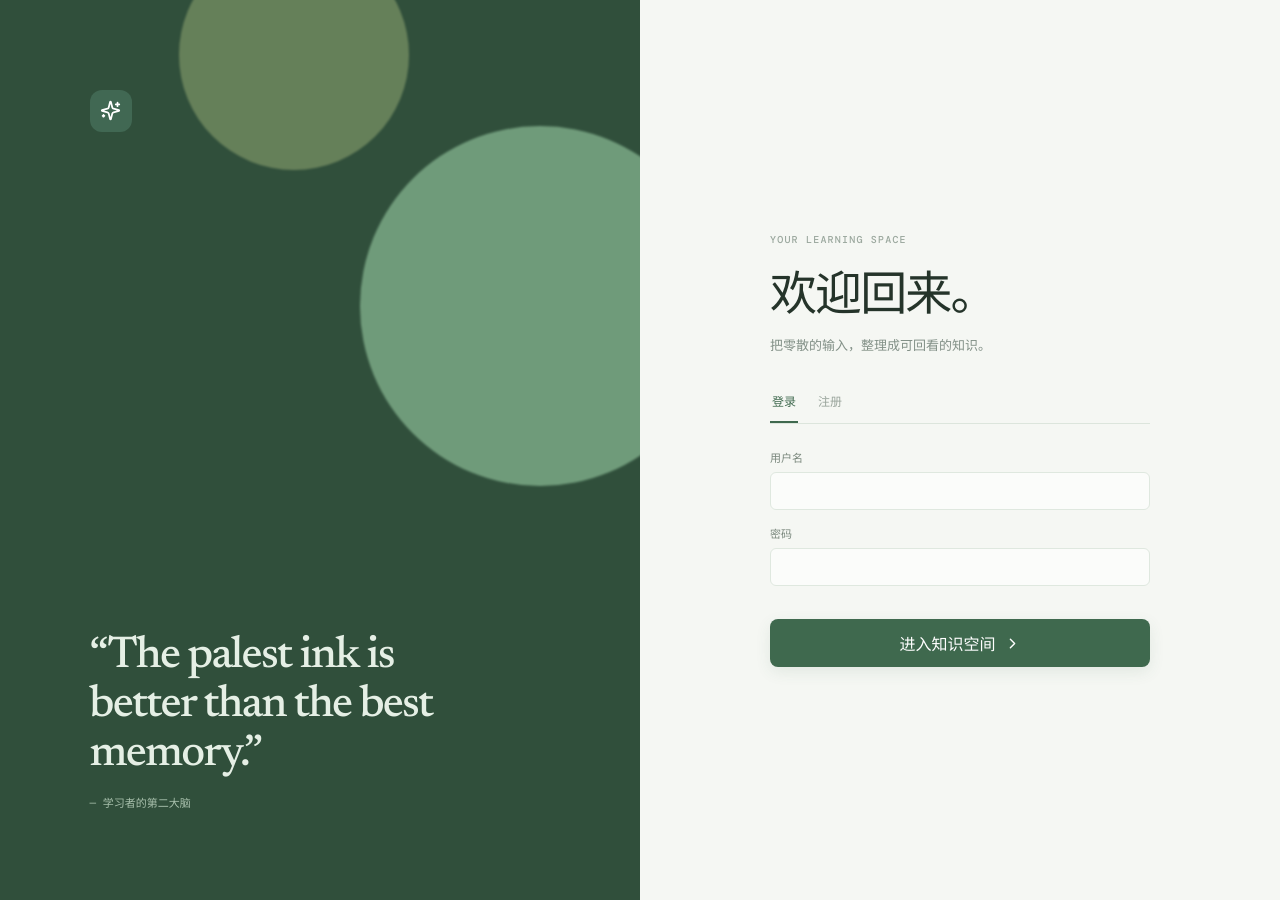
Scenario: registers a new learner and opens the knowledge space
Click the button "注册".
click(830, 408)  # box [816,392,844,423]
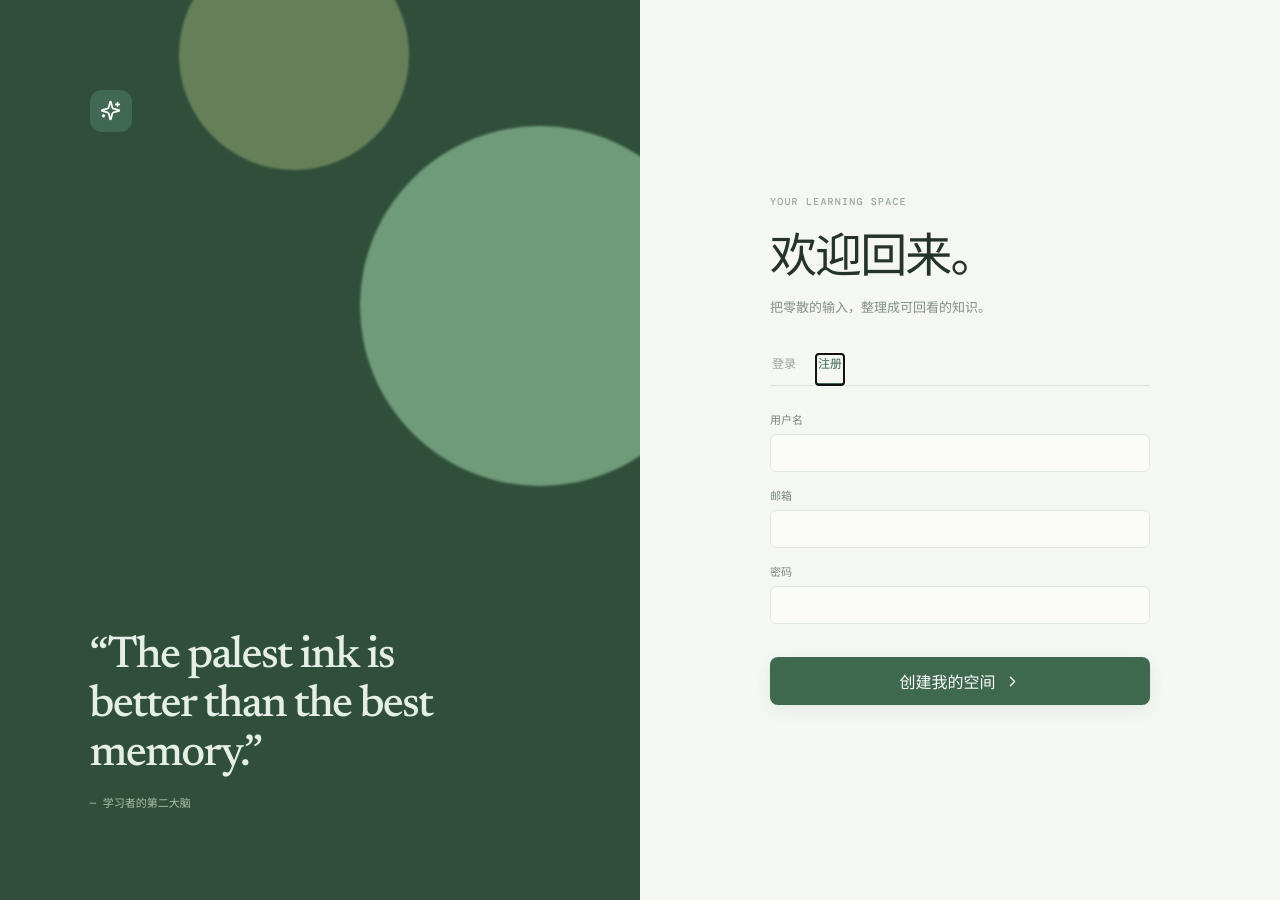
Type "new_learner" into the field labelled "用户名".
click(960, 453); type("new_learner")  # box [770,434,1150,472]
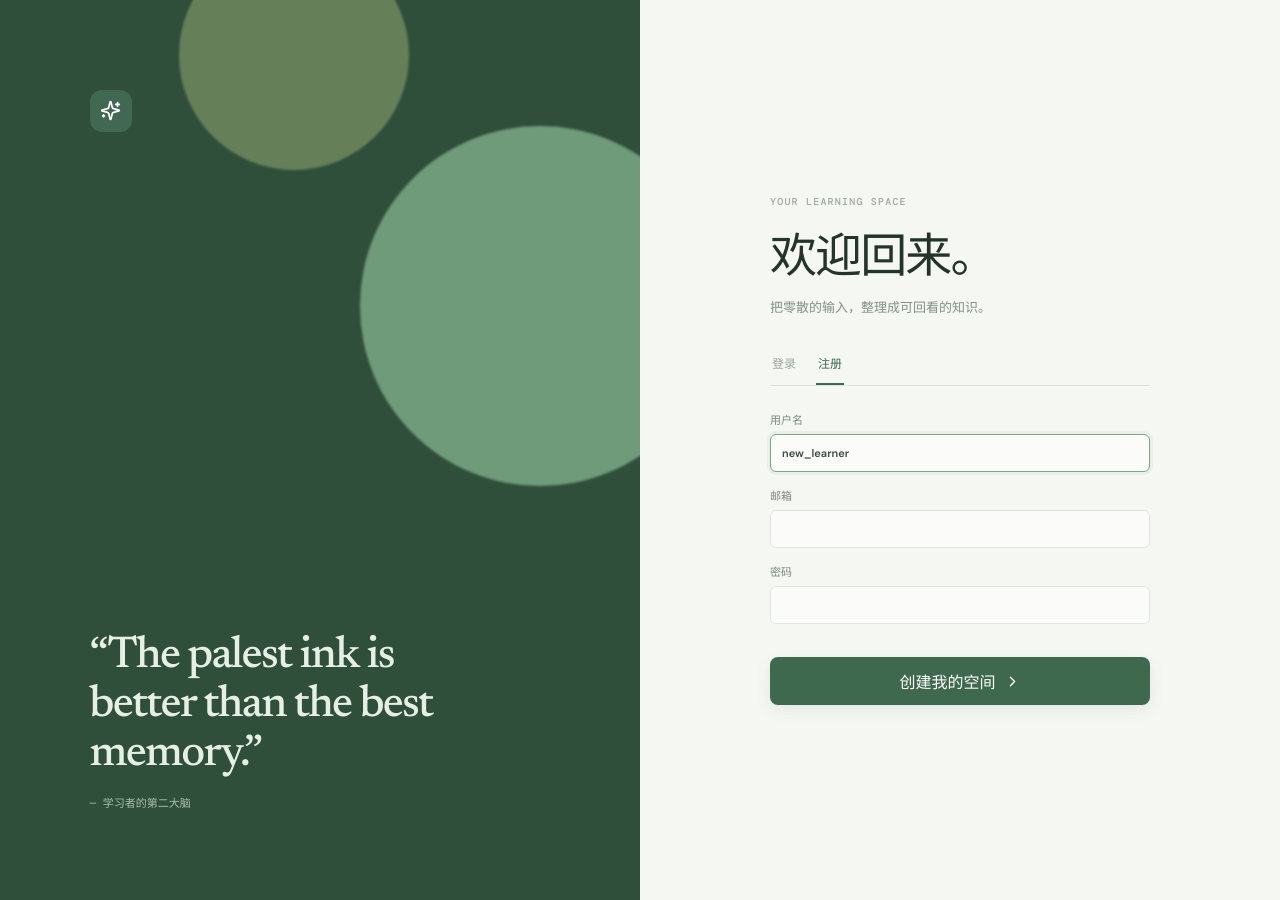
Type "new_learner@example.com" into the field labelled "邮箱".
click(960, 529); type("new_learner@example.com")  # box [770,510,1150,548]
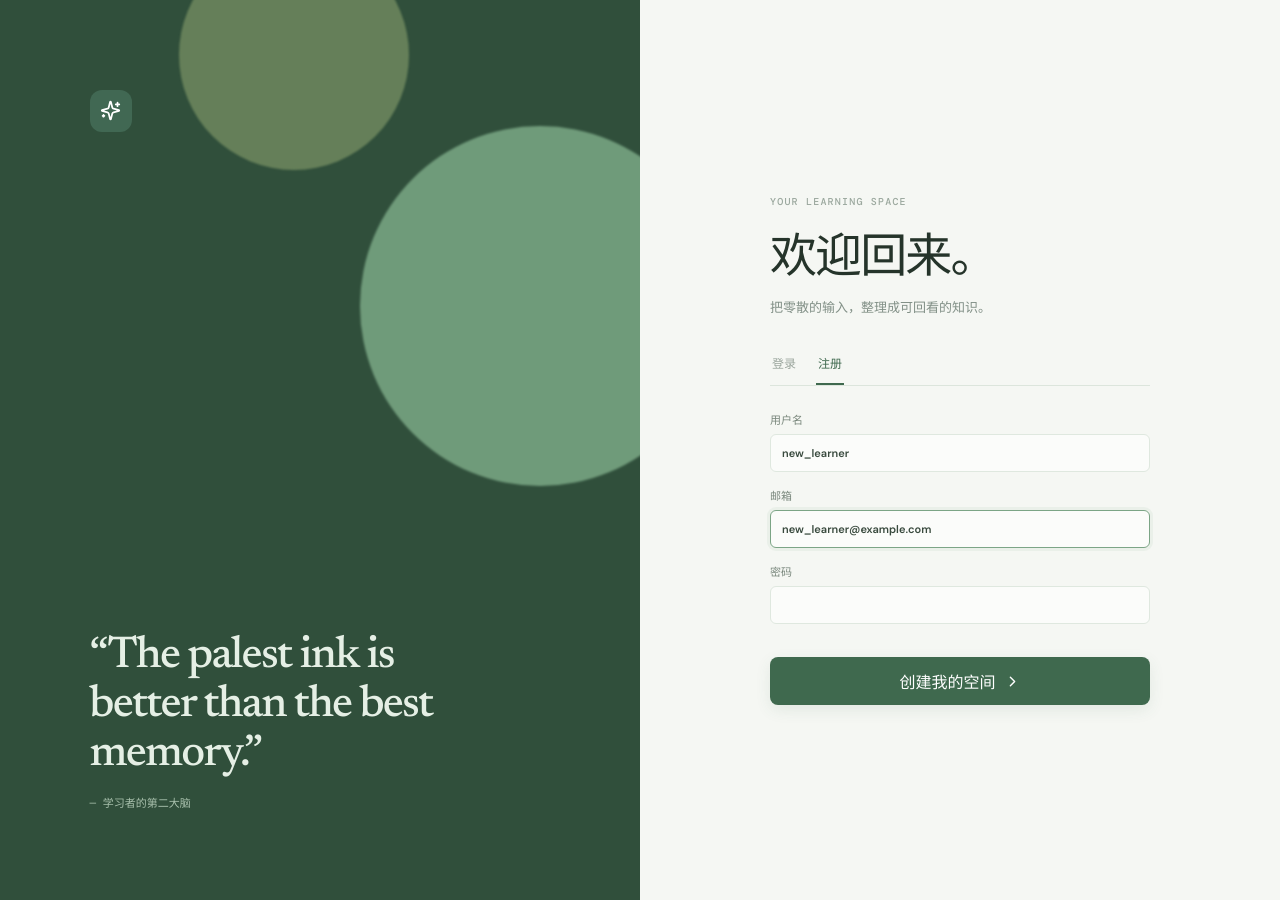
Type "Password123!" into the password field labelled "密码".
click(960, 605); type("Password123!")  # box [770,586,1150,624]
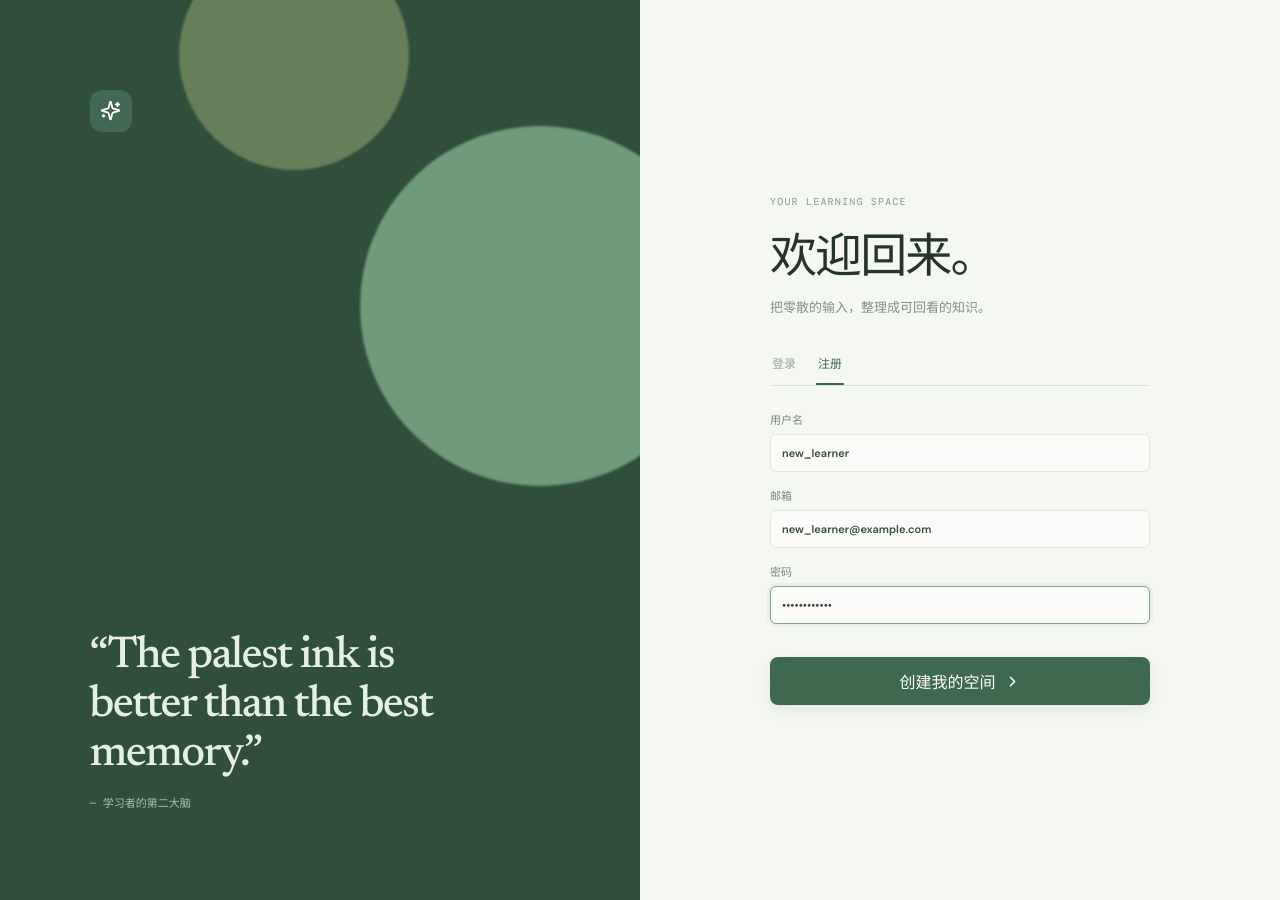
Click the button "创建我的空间".
click(960, 681)  # box [770,657,1150,705]
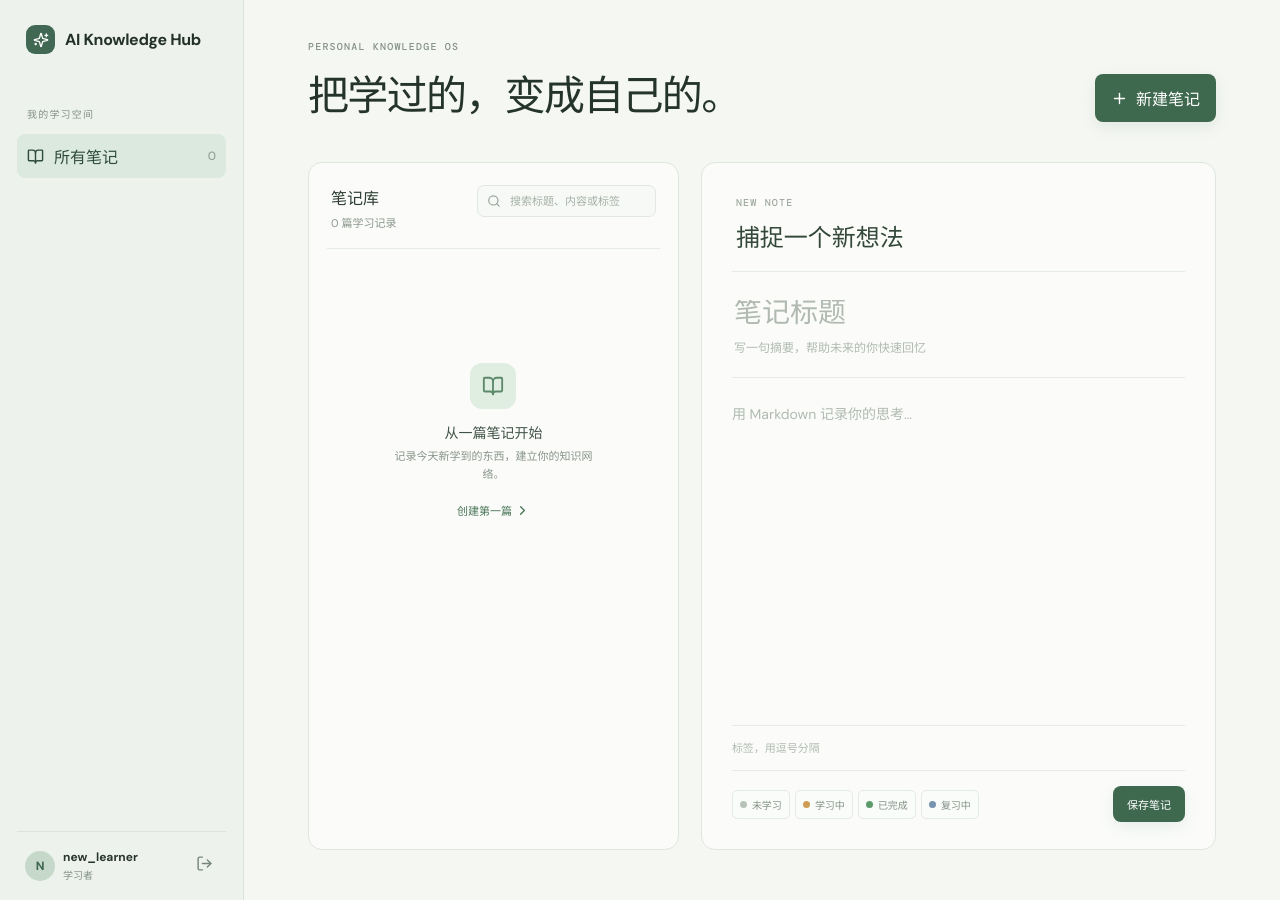
Result: the text "new_learner" is shown at [63,849,138,865]
